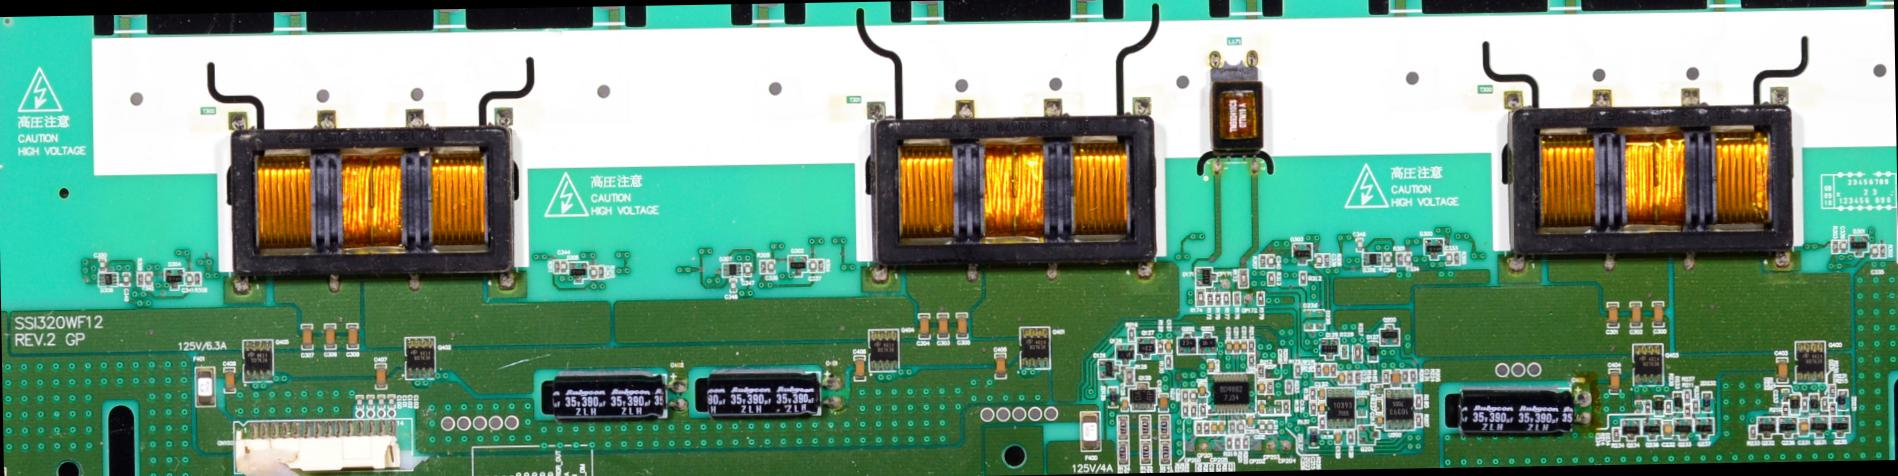Capacitor Jumper: (688, 365, 823, 421), (1439, 382, 1575, 438), (535, 369, 668, 423), (374, 361, 387, 388), (324, 323, 337, 351), (300, 323, 312, 350), (1629, 302, 1641, 328), (224, 366, 236, 392), (1607, 303, 1620, 327), (1607, 369, 1620, 394), (937, 312, 948, 339), (1652, 300, 1663, 327), (956, 312, 967, 338), (918, 314, 928, 339), (995, 352, 1006, 378), (853, 355, 864, 380), (347, 325, 358, 349), (1776, 357, 1787, 382), (1158, 392, 1168, 412), (1663, 420, 1672, 438), (1391, 369, 1398, 388), (1800, 419, 1807, 436), (1197, 384, 1206, 397), (1120, 397, 1128, 411), (1384, 252, 1391, 266), (1404, 252, 1411, 266), (1258, 401, 1265, 415), (809, 259, 817, 271), (1840, 240, 1847, 253), (1445, 252, 1453, 265), (1164, 339, 1172, 352), (560, 258, 566, 273), (1871, 245, 1877, 259), (1323, 363, 1330, 375), (378, 396, 385, 408), (1317, 401, 1323, 415), (1219, 421, 1225, 436), (1334, 430, 1340, 445), (1356, 237, 1362, 251), (767, 259, 773, 273), (589, 265, 596, 279), (743, 263, 749, 276), (1240, 339, 1246, 352), (1233, 339, 1240, 352), (357, 395, 363, 408), (1338, 372, 1345, 383), (389, 396, 396, 407), (1208, 357, 1213, 373), (730, 279, 736, 291), (368, 395, 374, 407), (1782, 389, 1788, 401), (1376, 414, 1382, 426), (1258, 379, 1263, 394), (1318, 386, 1323, 401), (1225, 342, 1231, 352), (186, 273, 191, 285), (1212, 420, 1217, 432), (1248, 415, 1250, 426)
Connector: (232, 418, 401, 475)
IC: (1324, 385, 1353, 429)
Resistor Jumper: (1139, 415, 1152, 438), (1158, 415, 1171, 440), (1139, 441, 1150, 464), (1160, 442, 1171, 465), (1118, 415, 1127, 440), (1120, 442, 1128, 465), (1195, 287, 1204, 306), (1238, 269, 1248, 287), (1453, 250, 1461, 264), (1353, 344, 1361, 361), (1126, 367, 1133, 384), (1286, 379, 1294, 392), (1266, 380, 1273, 395), (1822, 396, 1829, 411), (1612, 428, 1620, 442), (192, 271, 200, 285), (1299, 271, 1306, 285), (1341, 345, 1348, 359), (1402, 369, 1409, 383), (1294, 363, 1300, 379), (818, 258, 824, 273), (1397, 252, 1403, 266), (1223, 291, 1229, 305), (1233, 291, 1240, 305), (1415, 394, 1421, 408), (1283, 398, 1289, 413), (1200, 403, 1206, 418), (1692, 398, 1698, 413), (1644, 401, 1651, 413), (1783, 402, 1789, 417), (1414, 413, 1420, 428), (1347, 430, 1353, 445), (1233, 436, 1240, 451), (1256, 292, 1263, 305), (1410, 368, 1416, 382), (1829, 385, 1835, 398), (1309, 402, 1315, 415), (1664, 401, 1670, 414), (1829, 402, 1835, 415), (1319, 417, 1325, 430), (1237, 420, 1243, 434), (1242, 436, 1248, 449), (552, 260, 558, 273), (1248, 339, 1254, 351), (1164, 355, 1171, 367), (1181, 390, 1187, 402), (1375, 398, 1381, 411), (1191, 405, 1197, 417), (1267, 420, 1273, 432), (1203, 421, 1209, 434), (1225, 436, 1231, 448), (760, 260, 765, 275), (1315, 362, 1319, 377), (1355, 369, 1359, 384), (1310, 386, 1315, 401), (1685, 389, 1690, 403), (1260, 419, 1265, 434), (1190, 390, 1196, 401), (1229, 421, 1235, 432), (1880, 245, 1885, 258), (1183, 405, 1187, 418), (1750, 425, 1755, 438), (598, 265, 603, 277), (1269, 271, 1273, 283), (1207, 294, 1213, 304), (1128, 329, 1133, 342), (1157, 340, 1162, 352), (1248, 354, 1253, 366), (1258, 365, 1263, 377), (1332, 363, 1336, 375), (1346, 371, 1351, 383), (1196, 421, 1201, 434), (1685, 405, 1690, 415), (1833, 240, 1836, 253), (1217, 292, 1220, 305), (1384, 369, 1387, 383), (1802, 397, 1806, 411)
Transistor: (242, 338, 276, 382), (403, 337, 435, 380), (868, 328, 898, 373), (1019, 327, 1051, 369), (1795, 344, 1825, 383), (1633, 344, 1662, 384)
iC: (1384, 386, 1415, 430)
